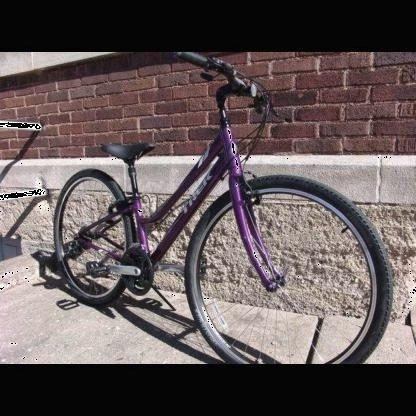Bicycle: (35, 44, 411, 365)
